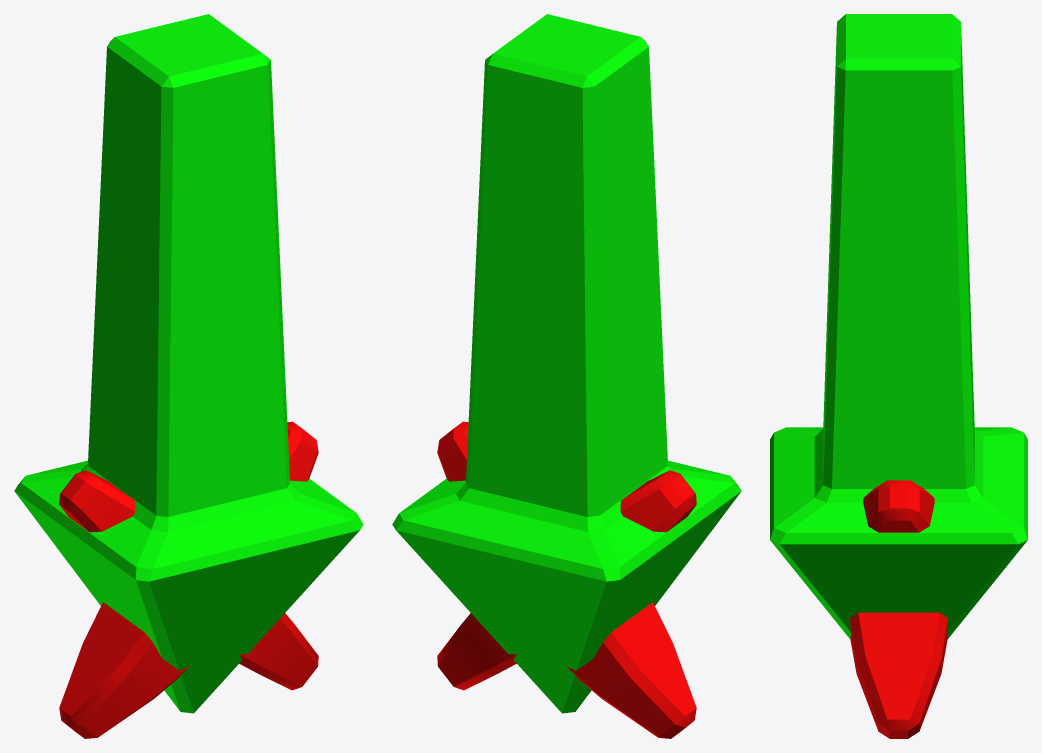
Rendered from Arrow&Cross.fbx.
The picture shows the model from 3 angles, left to right: view 1: azimuth 30°, elevation 25°; view 2: azimuth 150°, elevation 25°; view 3: azimuth 270°, elevation 25°; orthographic projection. The views are drawn at different scales.
Parts seen in each view (by area): view 1: Arrow, Cross; view 2: Arrow, Cross; view 3: Arrow, Cross.
Part boxes in pixels (x1,y1,x2,y2): Arrow: (14,14,363,713); Cross: (59,421,318,738); Arrow: (392,14,741,713); Cross: (437,421,696,738); Arrow: (770,14,1027,639); Cross: (850,480,947,738).
Size of the model in its own units: 36.34 by 33.42 by 93.16.
